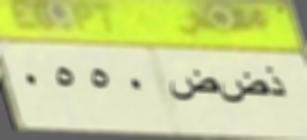0: (17, 68, 42, 94), (125, 66, 142, 102)
5: (82, 65, 117, 93), (54, 60, 78, 96)
daad: (168, 68, 220, 103), (222, 71, 268, 109)
zaal: (266, 63, 291, 100)
